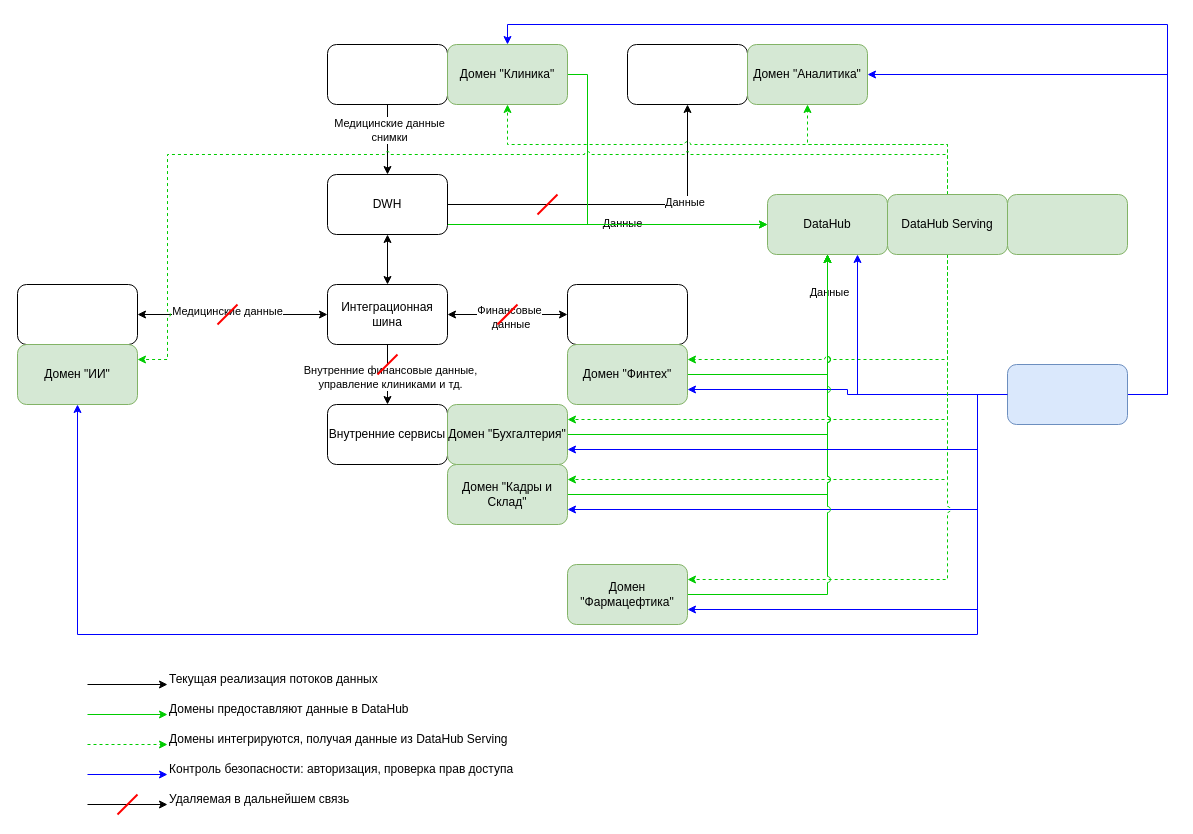
This 1193x834 diagram has some shape labels left out. Here are the shapes that lost their labels. From the top down, the centre of each, then its label:
(x=387, y=74): Клиентский интерфейс оператора
(x=687, y=74): BI-система
(x=1067, y=224): Домен "Платформа"
(x=77, y=314): ИИ сервисы
(x=627, y=314): Финтех-сервисы
(x=1067, y=394): Домен "Безопасность"
